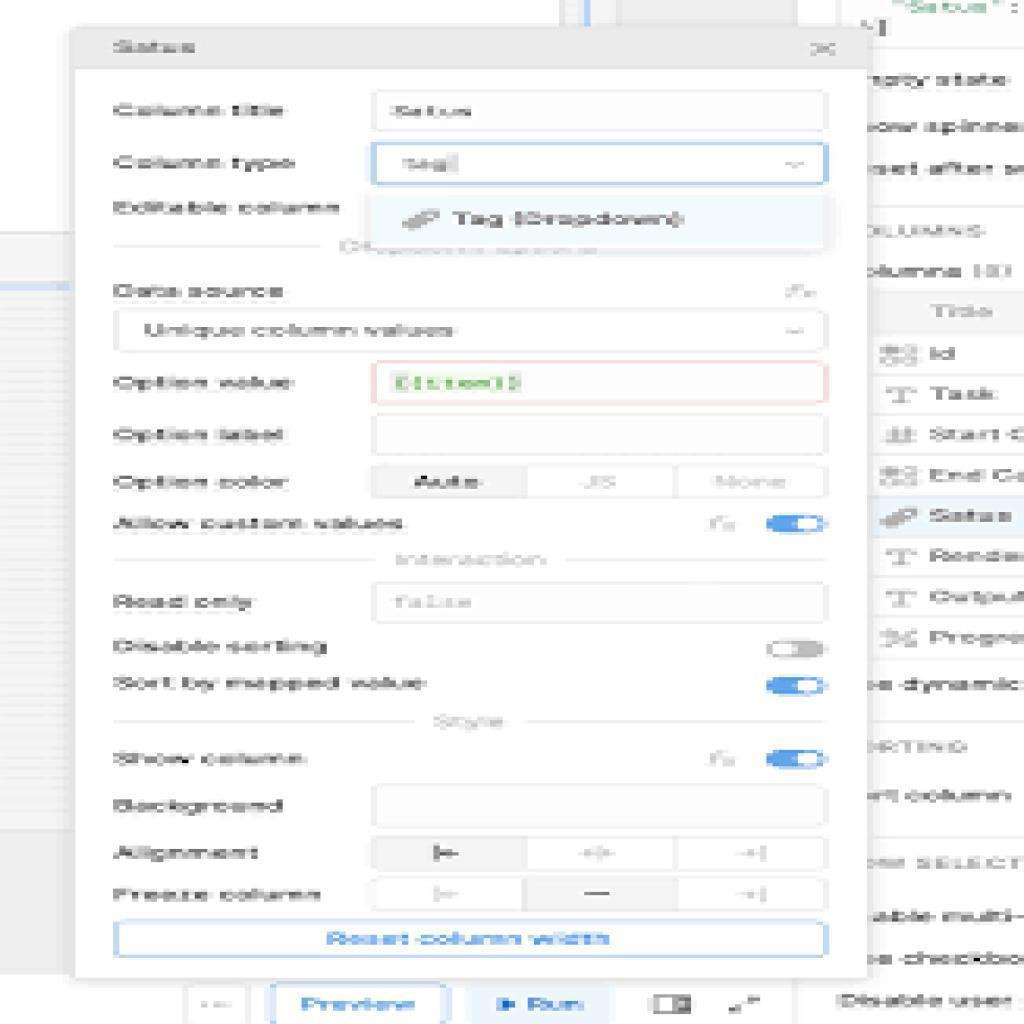button: (110, 921, 831, 961), (267, 979, 447, 1024), (467, 986, 617, 1024), (370, 466, 531, 500), (525, 463, 673, 498), (676, 466, 829, 499)
dropdown: (110, 309, 829, 351), (373, 145, 829, 185)
icon: (566, 841, 633, 871), (643, 990, 696, 1023), (724, 986, 762, 1024), (424, 837, 466, 868), (426, 881, 469, 909), (731, 840, 770, 868), (736, 881, 776, 905), (580, 884, 623, 902)
input: (370, 360, 828, 403), (367, 580, 830, 622), (371, 784, 828, 826), (371, 90, 828, 131), (370, 413, 826, 452)
switch: (762, 748, 833, 771), (766, 673, 833, 696), (768, 514, 832, 537), (767, 641, 829, 660)
